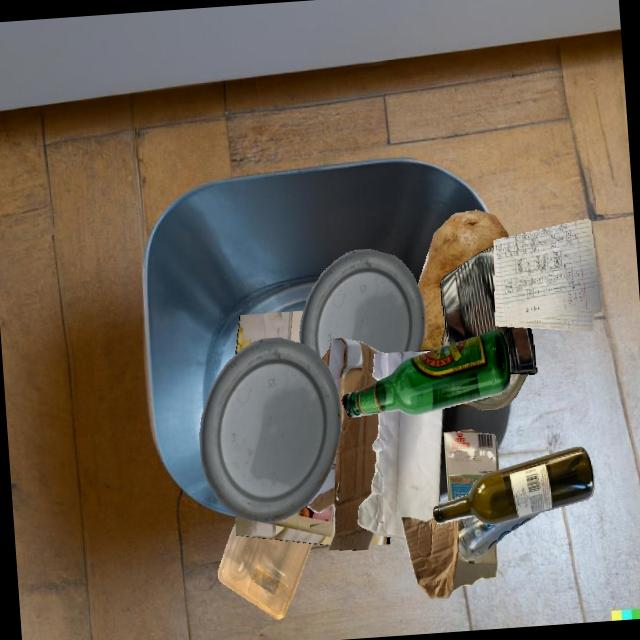biowaste: (417, 209, 508, 351)
cardboard: (301, 318, 389, 536), (307, 338, 384, 550), (400, 516, 458, 599), (234, 503, 334, 545), (443, 429, 498, 501), (235, 310, 303, 354), (452, 543, 497, 590), (369, 532, 389, 545)
glass: (341, 329, 510, 417), (432, 446, 594, 524), (464, 373, 527, 410)
metal: (440, 246, 536, 374)
paper: (493, 218, 601, 331), (357, 408, 442, 539)
plastic: (199, 337, 341, 522), (299, 249, 424, 359), (217, 523, 312, 620), (458, 513, 538, 560)
